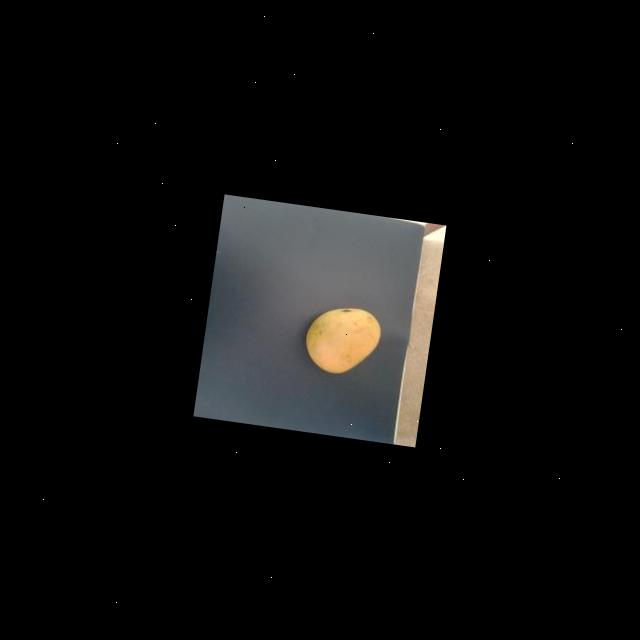Mango: (301, 302, 385, 379)
